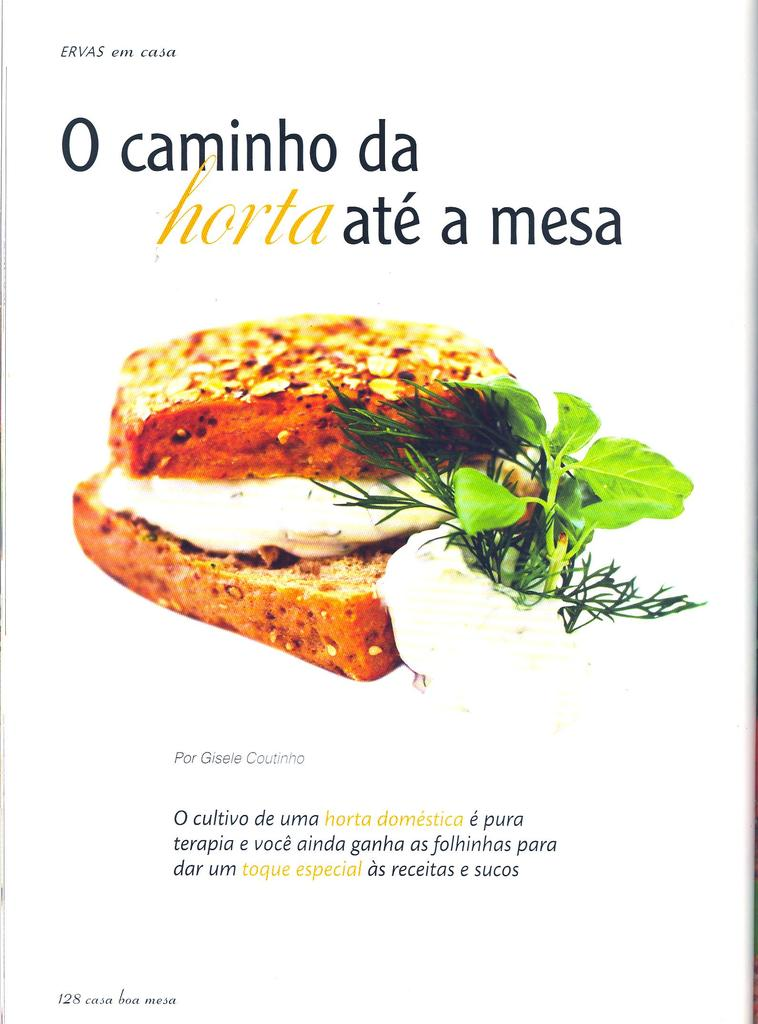sandwich: (73, 309, 706, 680)
